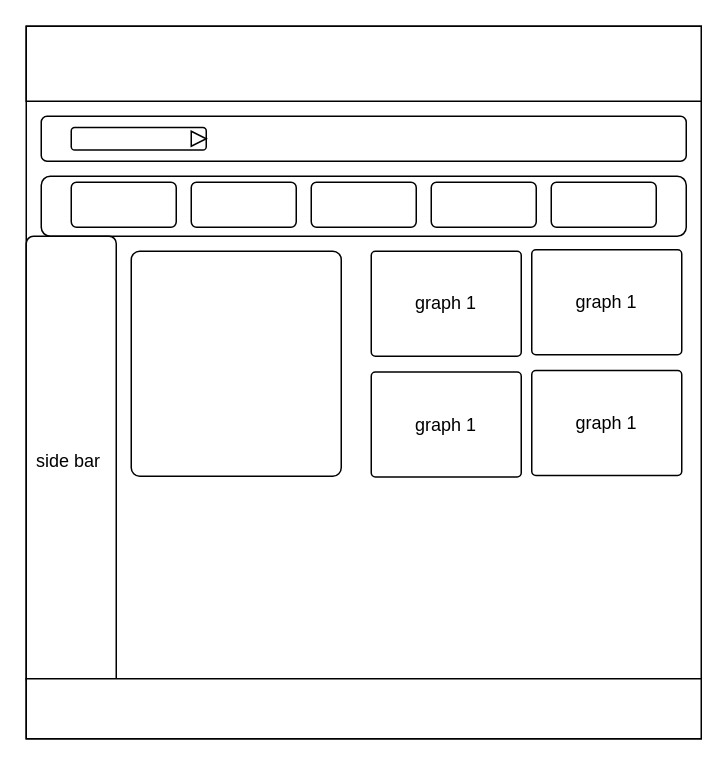
Image size: 728x765. Some labels were removed from this diagram. Here are the shapes that lost their labels. From the top down, the centre of each, then its label:
At point (363, 63): "Header".
At point (235, 363): "MAP".
At point (363, 708): "footer".
